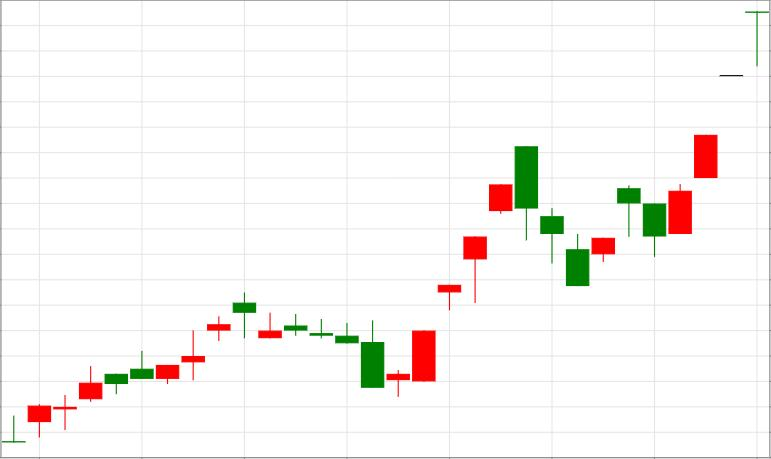bearish_engulfing_fall: (387, 146, 538, 398)
three_black_crows_fall: (386, 145, 589, 397)
